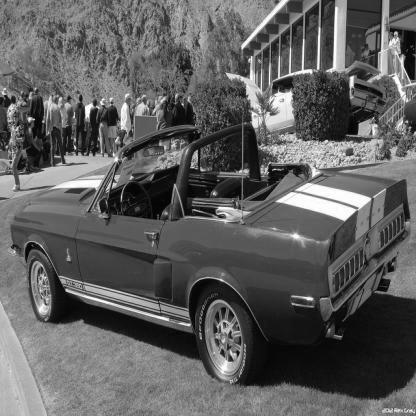car: (9, 119, 416, 390)
